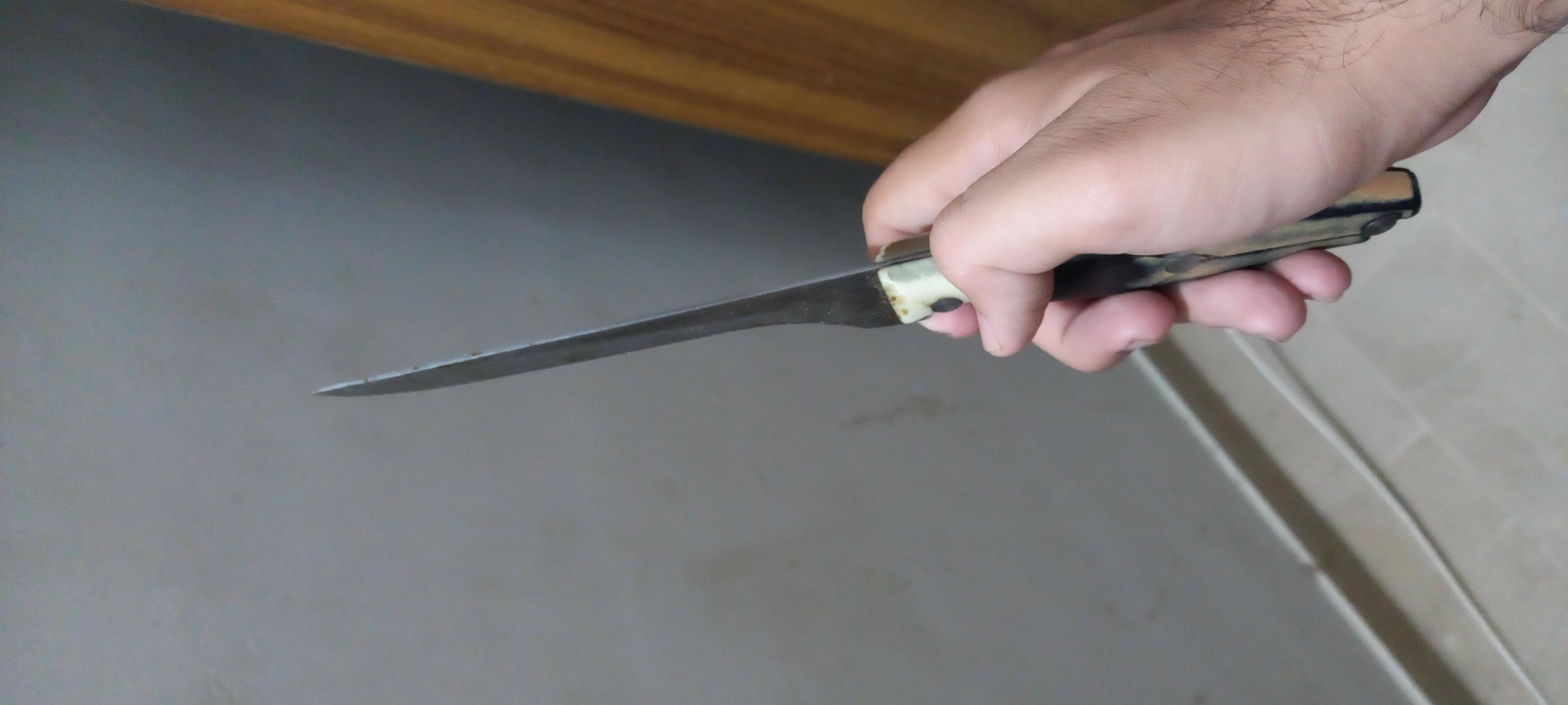knives: (564, 114, 1299, 501)
